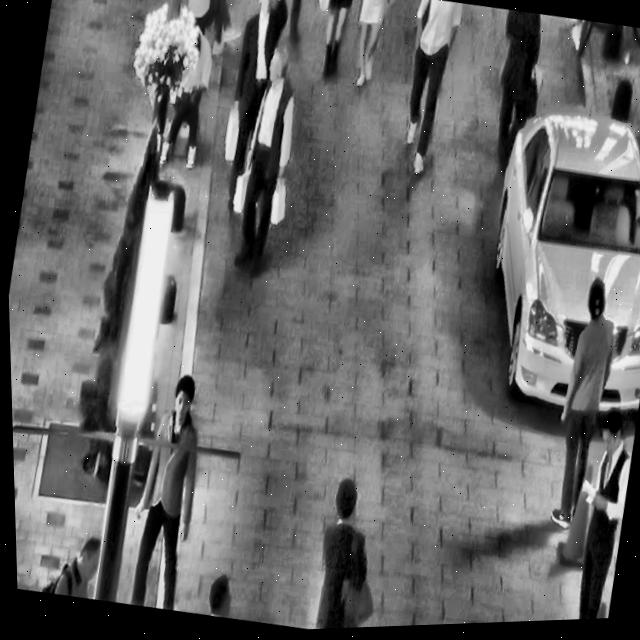light_vehicle: (454, 84, 640, 438)
